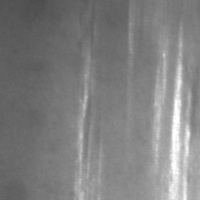scratches: (167, 35, 199, 200), (145, 47, 171, 166), (71, 61, 94, 194)
